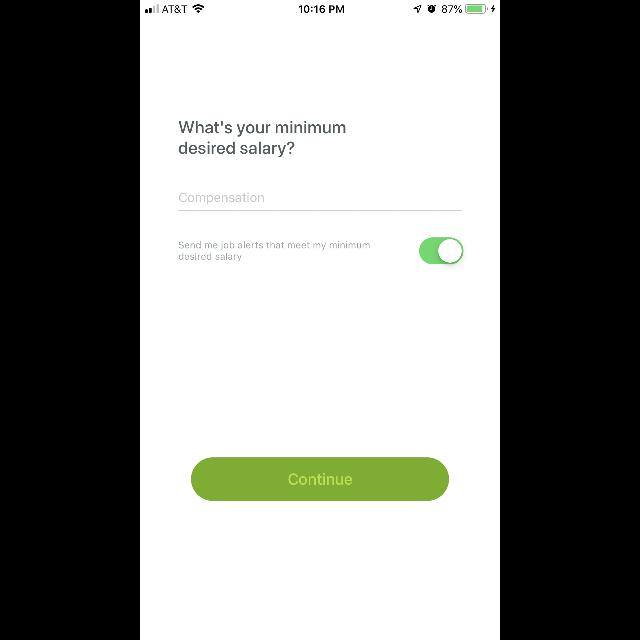input: (178, 192, 462, 212)
switch: (419, 238, 463, 264)
text: (178, 120, 346, 158), (178, 240, 370, 262), (180, 193, 264, 205)
textbutton: (191, 457, 449, 501)
uppertaskbar: (140, 0, 500, 14)
